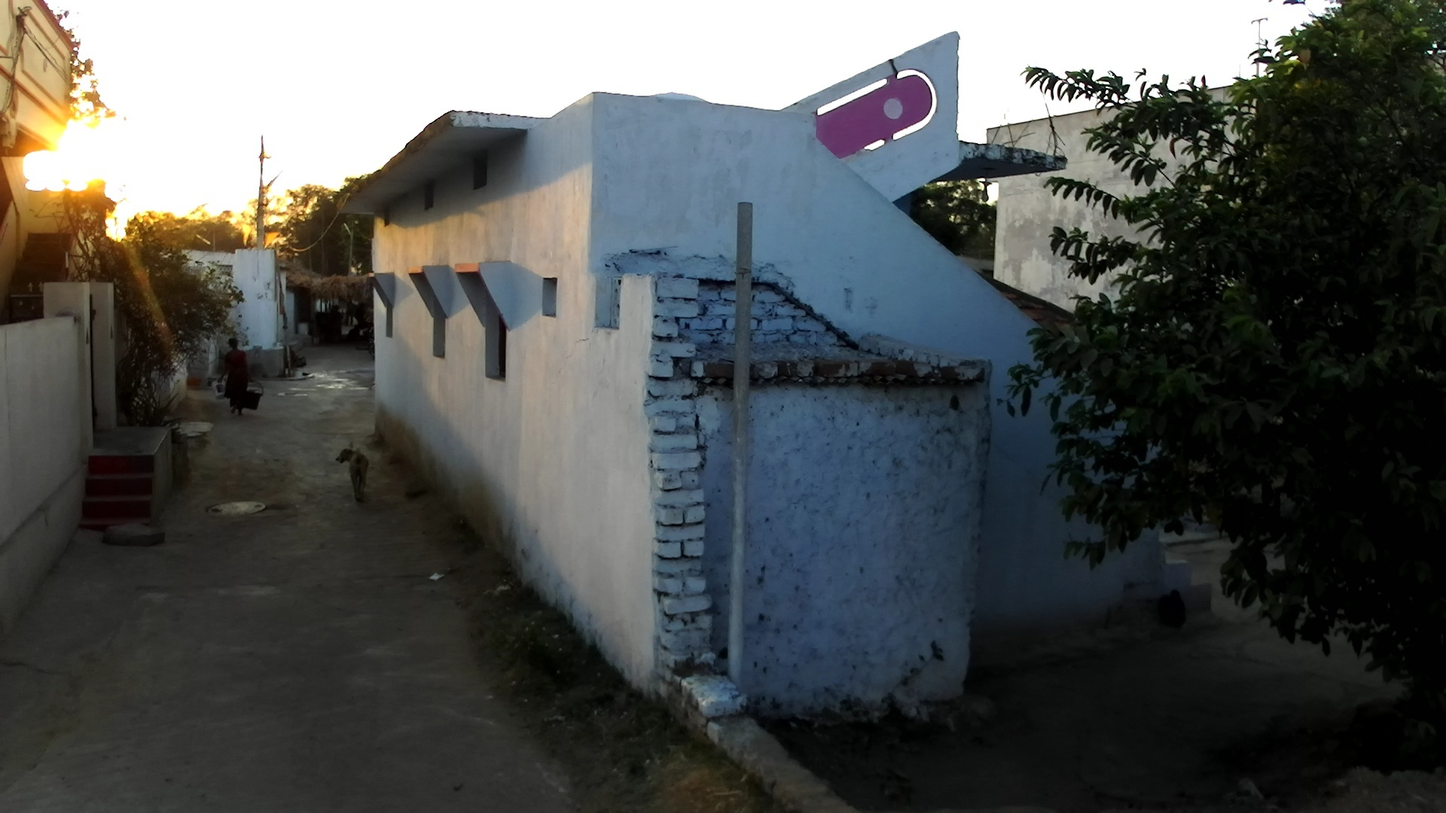animal: (334, 448, 370, 504)
motorcycle: (361, 328, 377, 363)
person: (212, 337, 265, 418), (283, 345, 308, 369)
